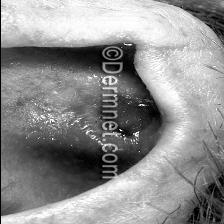Potentially Malignant Skin Tumors: (116, 99, 154, 134)
